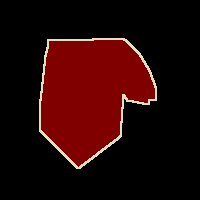tie: (40, 38, 156, 168)
